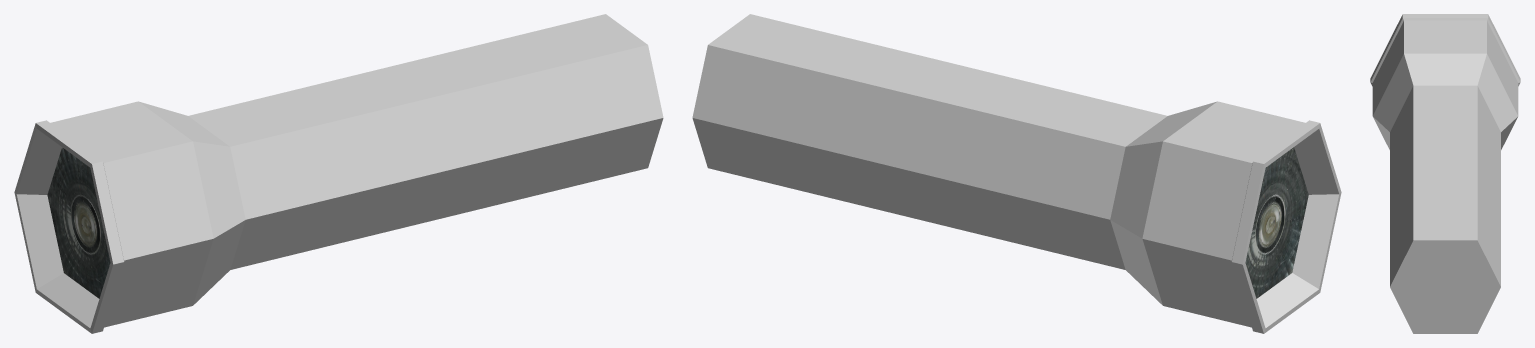
The model's file is flashlight.fbx.
The picture shows the model from 3 angles, left to right: view 1: azimuth 30°, elevation 25°; view 2: azimuth 150°, elevation 25°; view 3: azimuth 270°, elevation 25°; orthographic projection. The views are drawn at different scales.
Visible parts, largest first — view 1: Cube; view 2: Cube; view 3: Cube.
Boxes of the visible parts, x1=… form: Cube: x1=14, y1=14, x2=663, y2=333; Cube: x1=692, y1=14, x2=1341, y2=333; Cube: x1=1370, y1=14, x2=1520, y2=333.
Bounding box in the file's own units: 1052 × 303 × 320.
